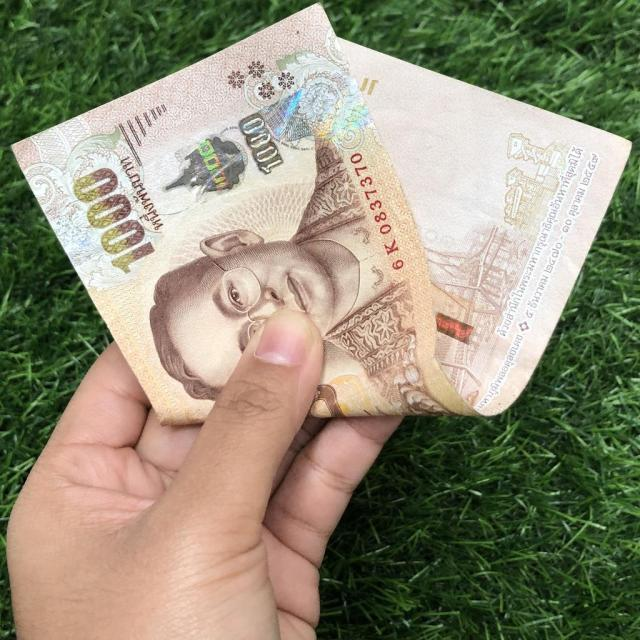THAI1000: (14, 5, 630, 423)
